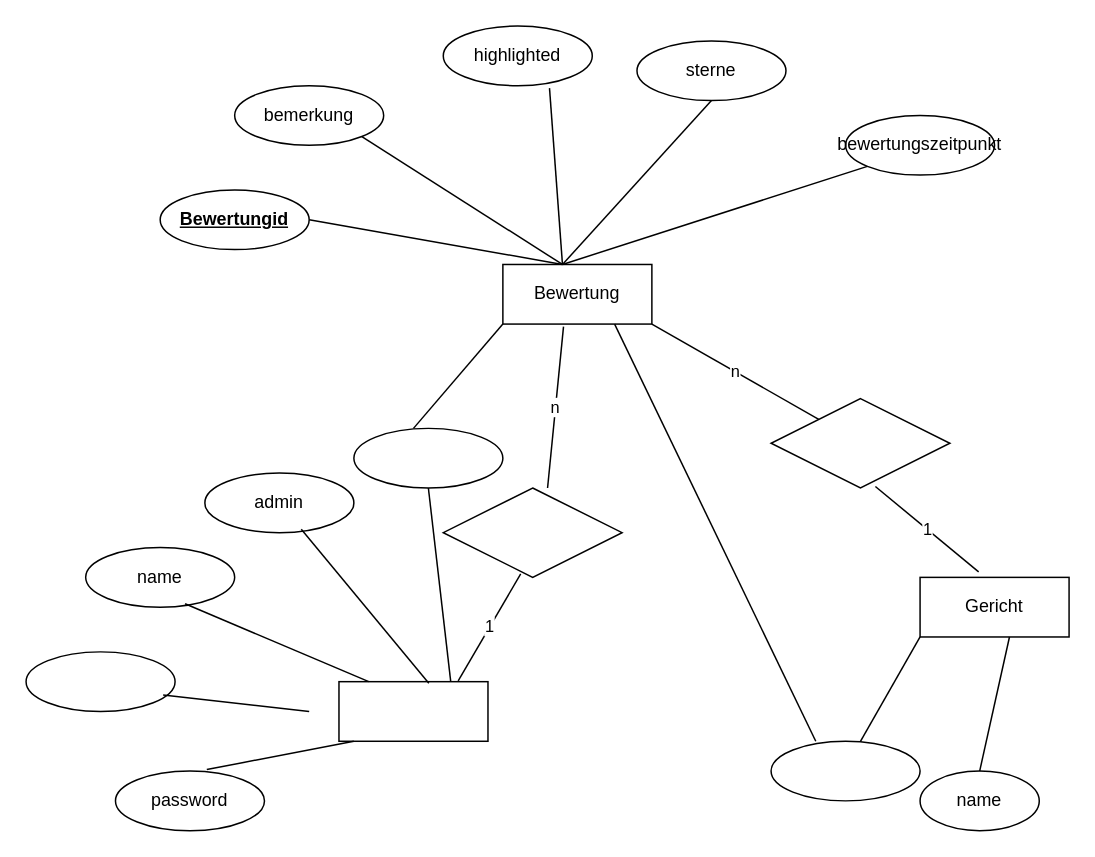
Image size: 1095x857. Some labels were removed from this diagram. The centre of each missing label's shape, as x and y in pixels:
Benutzer: pixel 412 710
Benutzerid: pixel 427 457
besitzt: pixel 860 442
email: pixel 100 680
Gerichtid: pixel 845 770
macht: pixel 532 531
